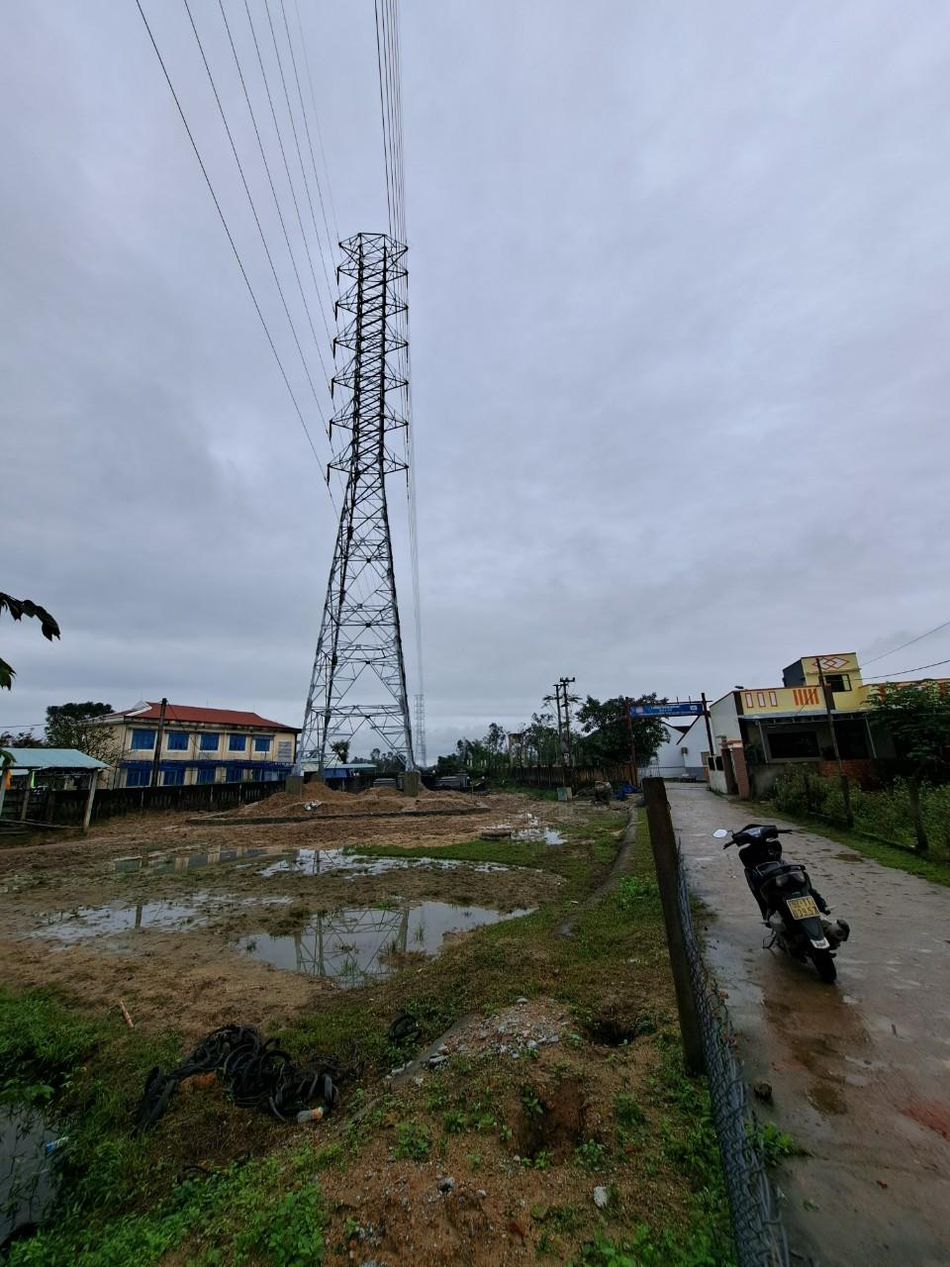power_tower: (309, 222, 424, 788)
